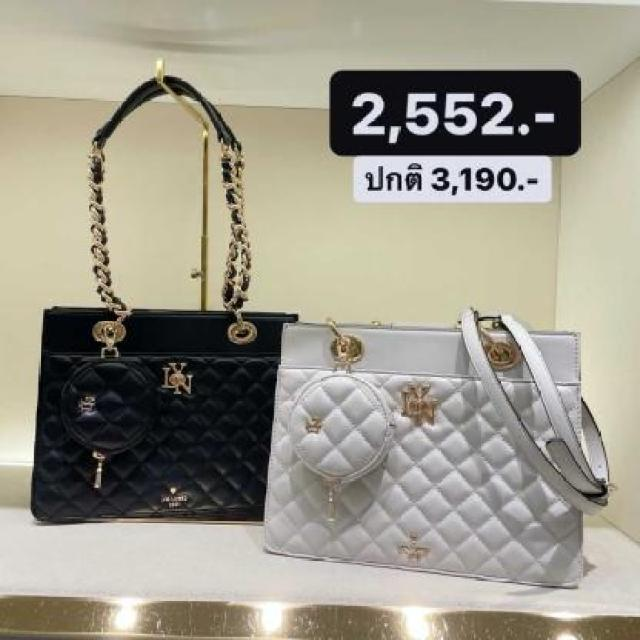Bag: (28, 28, 292, 534), (258, 260, 627, 617)
